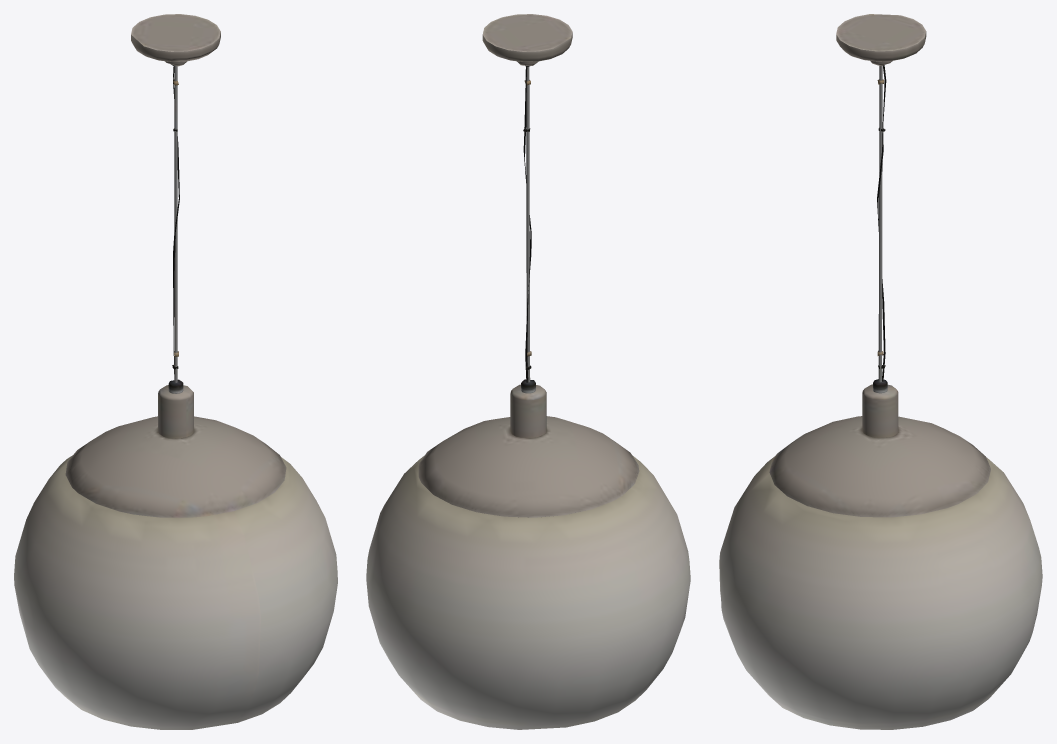
File: th_deckenlampe.glb
3 renders of one model, left to right at view 1: azimuth 30°, elevation 25°; view 2: azimuth 150°, elevation 25°; view 3: azimuth 270°, elevation 25°, orthographic.
Visible parts, largest first — view 1: modern_ceiling_lamp_01; view 2: modern_ceiling_lamp_01; view 3: modern_ceiling_lamp_01.
Part boxes in pixels (x1,y1,x2,y2): modern_ceiling_lamp_01: (14,14,337,729); modern_ceiling_lamp_01: (366,14,690,729); modern_ceiling_lamp_01: (719,14,1042,729).
Size of the model in its own units: 0.4316 by 0.9512 by 0.4298.
3 materials, 3 textured.
